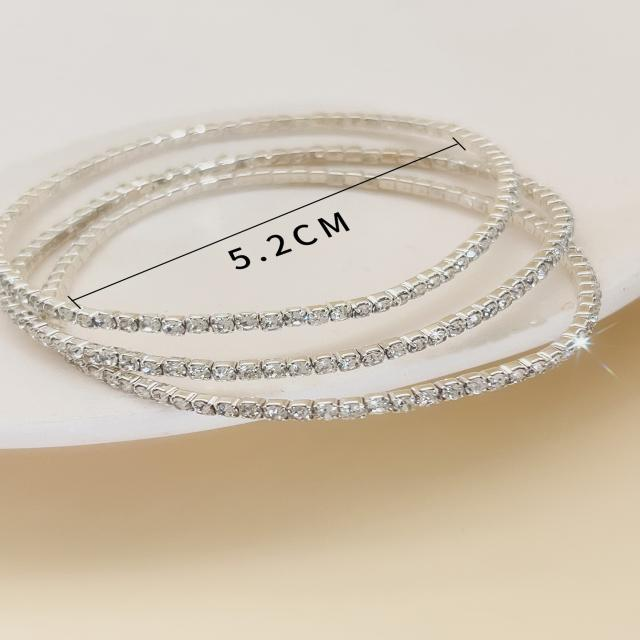bracelet: (0, 56, 640, 432)
